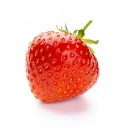strawberry: (24, 22, 100, 103)
